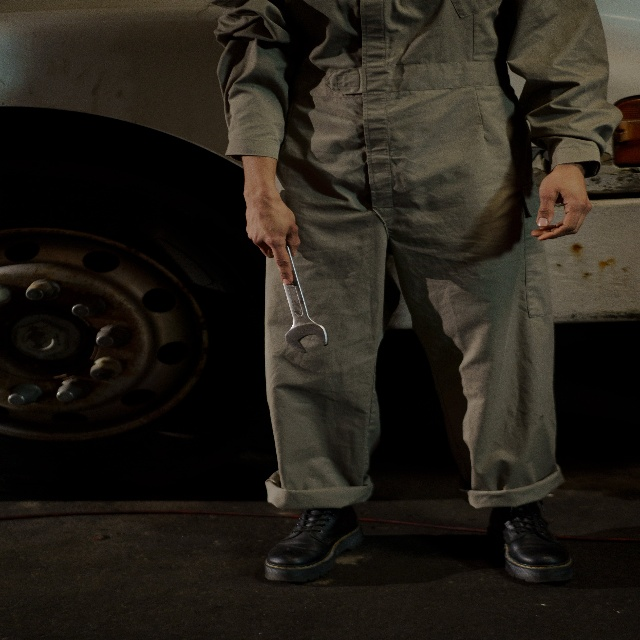Sin_guantes: (245, 188, 301, 285), (531, 163, 592, 242)
